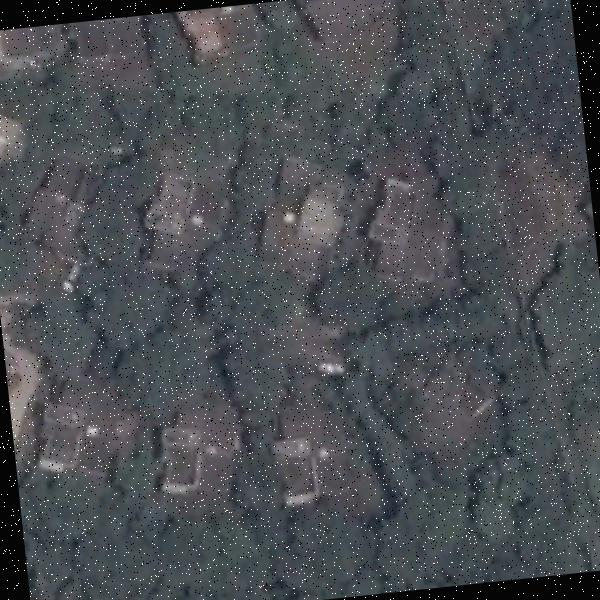Buildings: (42, 368, 127, 481), (398, 363, 493, 464), (274, 390, 355, 496), (156, 399, 240, 498), (365, 180, 439, 276), (16, 167, 84, 264), (271, 182, 345, 256), (66, 15, 140, 82), (154, 178, 215, 258), (311, 0, 399, 52), (0, 23, 65, 84), (174, 4, 256, 52)
